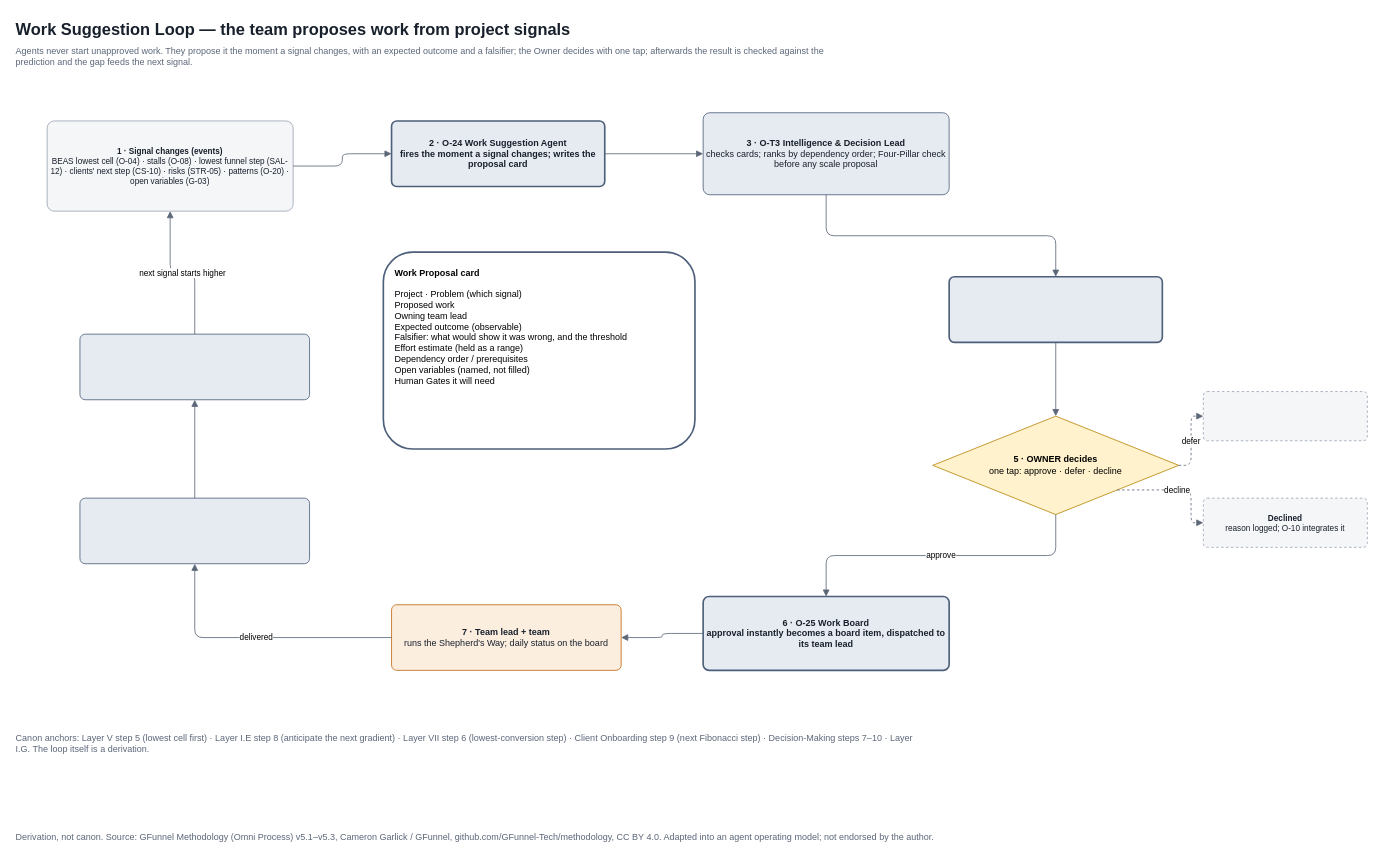
Image size: 1382x864. Some labels were removed from this diagram. The shapes that lost their labels are listed below. From the top down, each one's centre as x and y in pixels, then its label:
(1055,309): 4 · O-23 Owner Liaison pushes the card to the Owner Inbox (P1, instant)
(194,366): 9 · O-10 Capsule Integrator integrates the gap; nothing is lost
(1285,416): Deferred O-24 re-proposes it at a later scan
(194,530): 8 · O-16 Decision Support actual vs expected outcome; did the falsifier fire?
